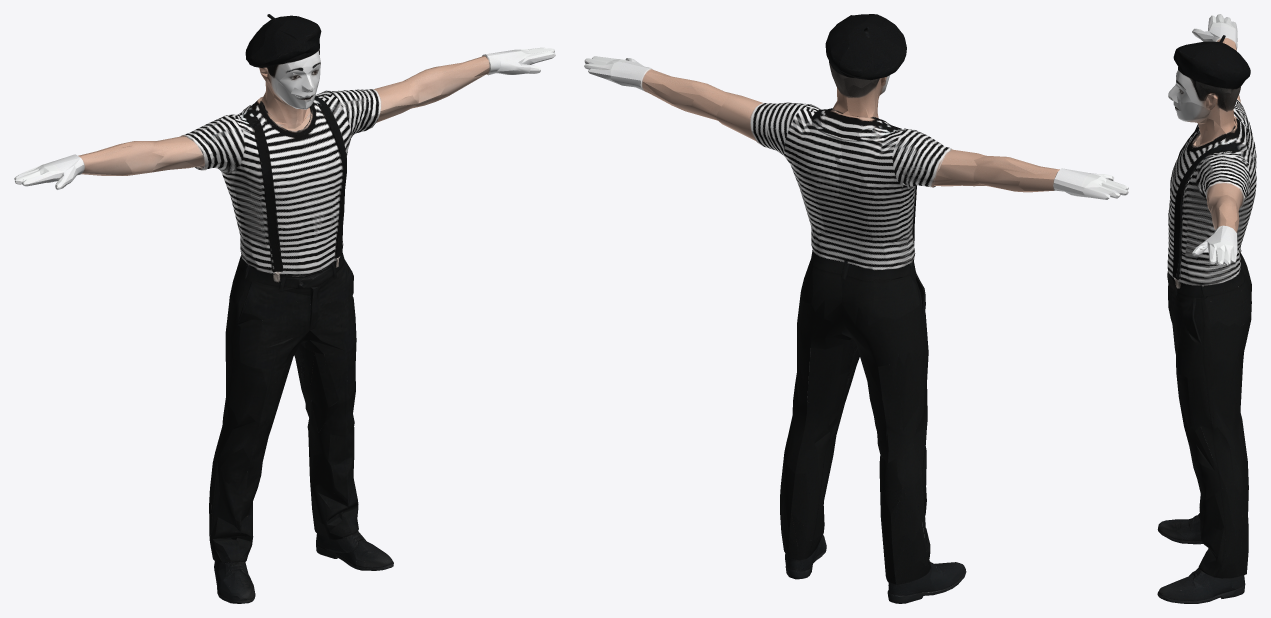
Rendered from image3d.glb.
3 views of the same model, side by side, from view 1: azimuth 30°, elevation 25°; view 2: azimuth 150°, elevation 25°; view 3: azimuth 270°, elevation 25° (orthographic). The views are drawn at different scales.
Size of the model in its own units: 1.9 by 1.87 by 0.319.
Materials: 1 (1 with a texture image).
